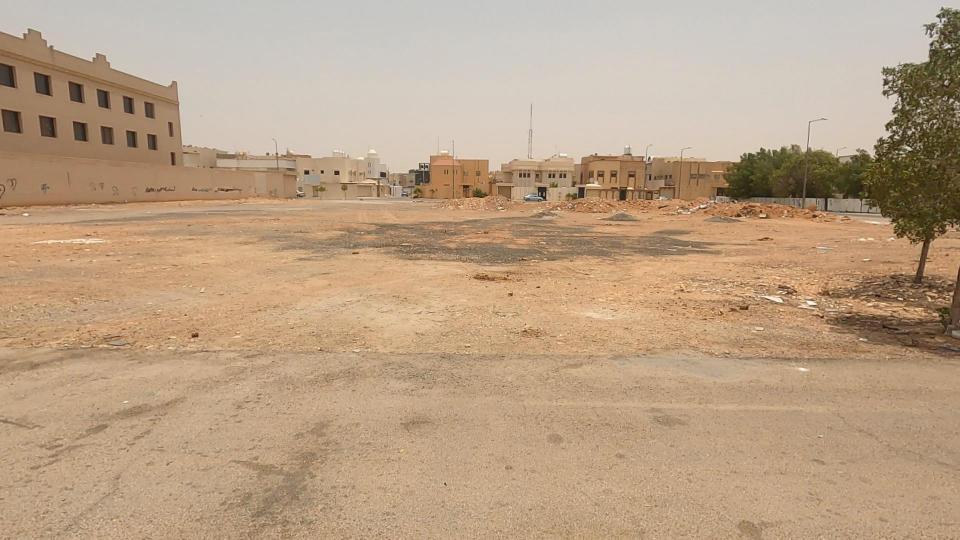GARBAGE: (732, 259, 855, 335), (665, 179, 729, 239)
